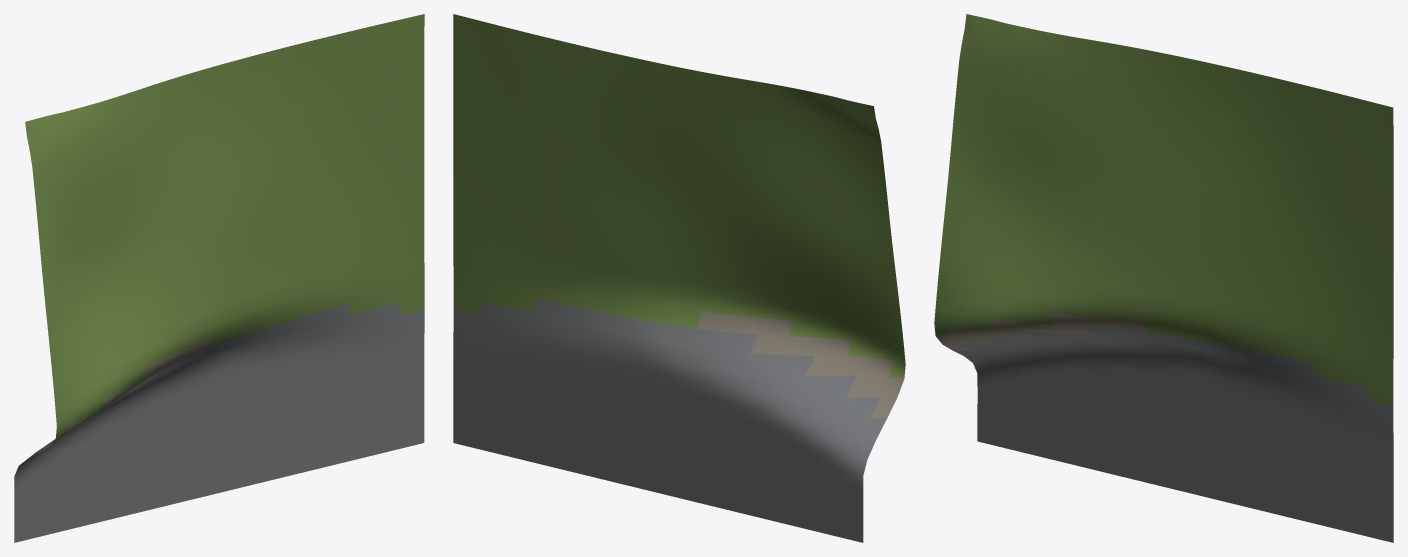
The model's file is island_terrain_03_05.obj.
3 renders of one model, left to right at view 1: azimuth 30°, elevation 25°; view 2: azimuth 150°, elevation 25°; view 3: azimuth 330°, elevation 25°, orthographic.
Visible parts, largest first — view 1: island_terrain_03_05; view 2: island_terrain_03_05; view 3: island_terrain_03_05.
Part boxes in pixels (bbox=[...]): island_terrain_03_05: bbox=[14, 14, 424, 542]; island_terrain_03_05: bbox=[453, 14, 905, 542]; island_terrain_03_05: bbox=[934, 14, 1393, 542].
Size of the model in its own units: 256 by 256 by 47.06.
